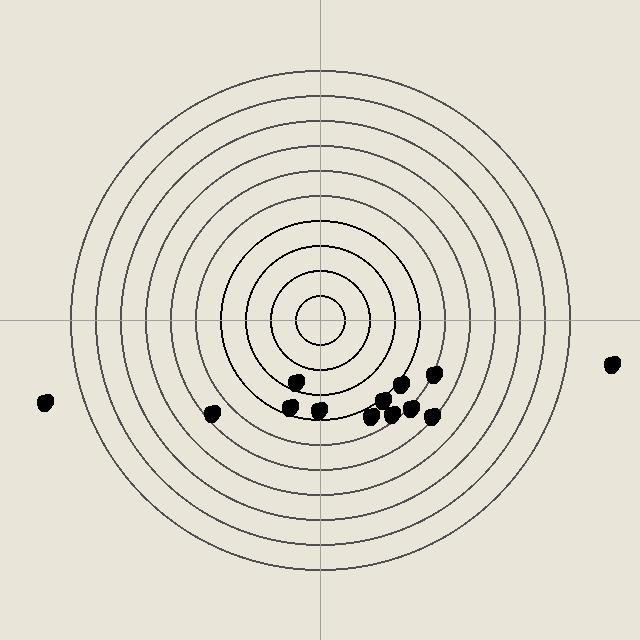horizontal_scatter: (34, 392, 54, 412), (400, 398, 420, 418), (285, 372, 305, 392), (390, 374, 410, 394), (308, 400, 328, 420), (421, 406, 441, 426), (372, 390, 392, 410), (601, 354, 621, 374), (360, 406, 380, 426), (381, 404, 401, 424), (423, 364, 443, 384), (201, 403, 221, 423), (279, 397, 299, 417)
